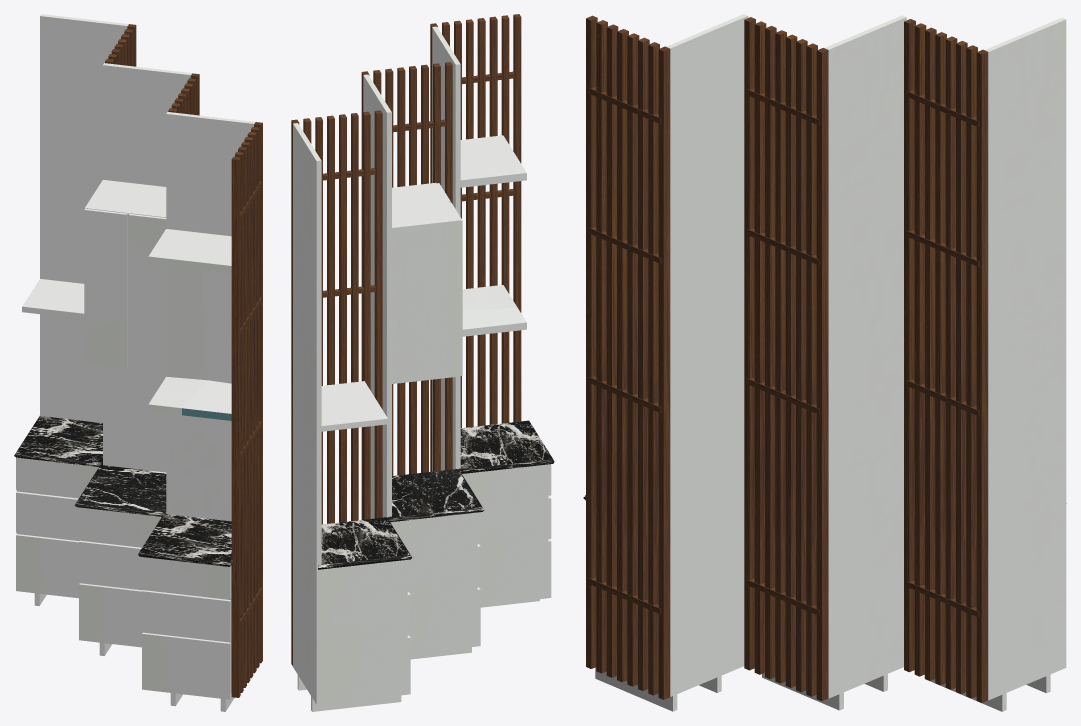
Rendered from wallpartition.obj.
The picture shows the model from 3 angles, left to right: view 1: azimuth 30°, elevation 25°; view 2: azimuth 150°, elevation 25°; view 3: azimuth 270°, elevation 25°; orthographic projection. The views are drawn at different scales.
Parts seen in each view (by area): view 1: Cube.017_Cube.018, Cube.034_Cube.039, Cube.002_Cube.003, Cube.005_Cube.006, Cube.010_Cube.011, Cube.001, Cube.000; view 2: Cube.017_Cube.018, Cube.001, Cube.034_Cube.039, Cube.000, Cube.002_Cube.003, Cube.005_Cube.006, Cube.010_Cube.011; view 3: Cube.017_Cube.018, Cube.000, Cube.034_Cube.039, Cube.001.
Boxes of the visible parts, x1=… form: Cube.017_Cube.018: x1=16, y1=14, x2=255, y2=711; Cube.034_Cube.039: x1=231, y1=122, x2=262, y2=697; Cube.002_Cube.003: x1=138, y1=512, x2=233, y2=566; Cube.005_Cube.006: x1=74, y1=463, x2=166, y2=516; Cube.010_Cube.011: x1=14, y1=416, x2=102, y2=466; Cube.001: x1=105, y1=24, x2=136, y2=66; Cube.000: x1=168, y1=73, x2=199, y2=115; Cube.017_Cube.018: x1=293, y1=26, x2=551, y2=711; Cube.001: x1=291, y1=110, x2=382, y2=665; Cube.034_Cube.039: x1=430, y1=14, x2=521, y2=471; Cube.000: x1=361, y1=62, x2=452, y2=519; Cube.002_Cube.003: x1=458, y1=420, x2=554, y2=473; Cube.005_Cube.006: x1=387, y1=469, x2=484, y2=522; Cube.010_Cube.011: x1=318, y1=517, x2=412, y2=569; Cube.017_Cube.018: x1=595, y1=14, x2=1066, y2=711; Cube.000: x1=744, y1=17, x2=828, y2=700; Cube.034_Cube.039: x1=586, y1=15, x2=670, y2=699; Cube.001: x1=904, y1=19, x2=987, y2=702.
Bounding box in the file's own units: 29.44 × 120 × 79.07.
